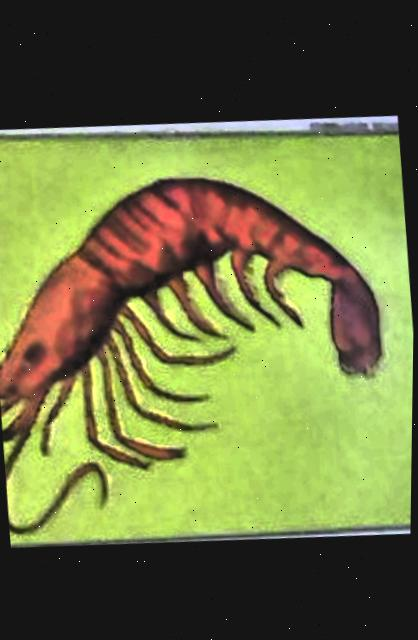El Camaron: (0, 128, 414, 543)
